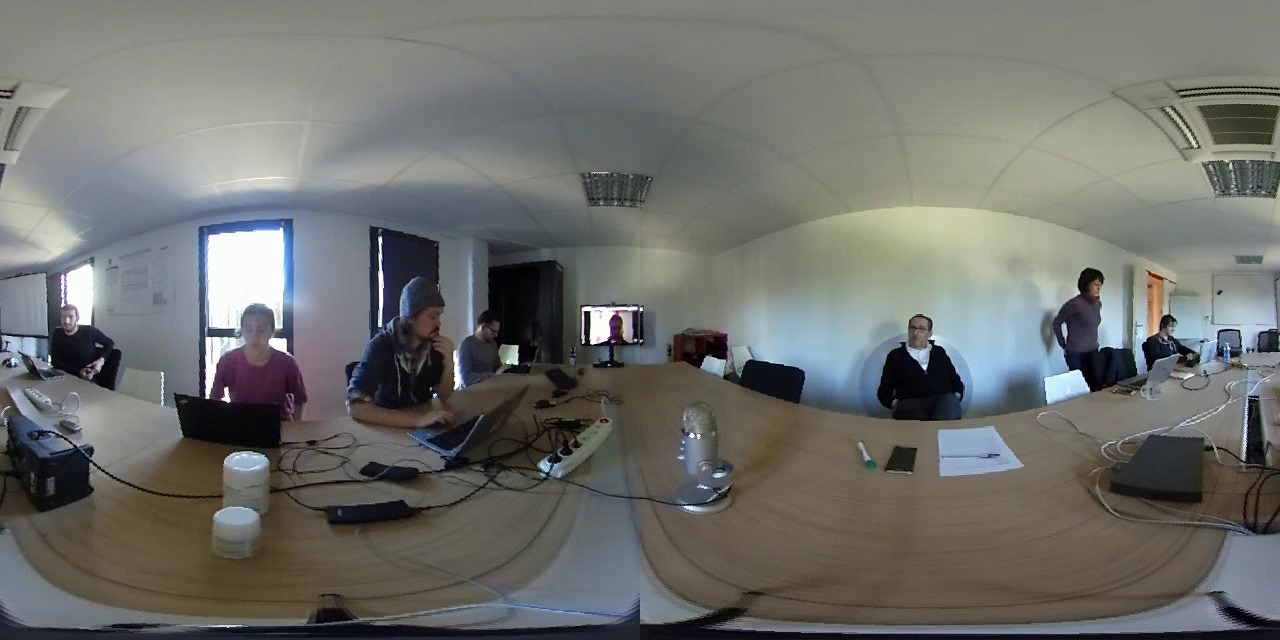person: (344, 261, 458, 409), (868, 303, 973, 427), (202, 286, 302, 413), (1043, 255, 1113, 374), (44, 294, 125, 388), (465, 288, 508, 382), (1141, 297, 1191, 367), (574, 304, 638, 349)
